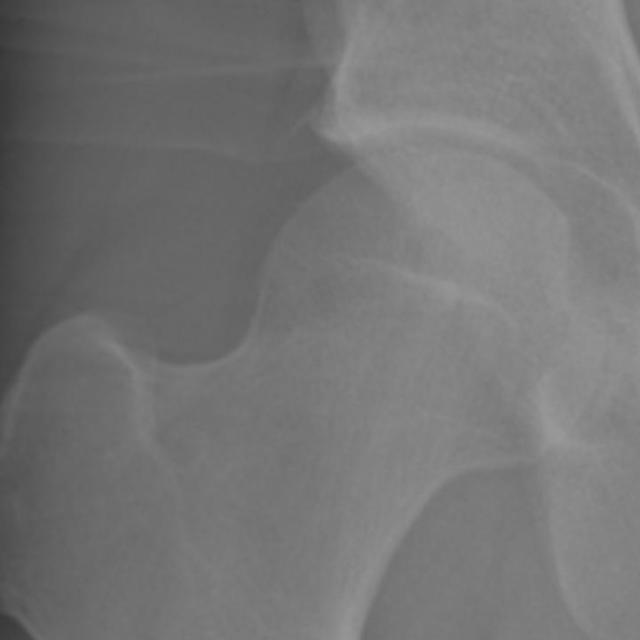Fitted_femural_head: (351, 146, 432, 351)
